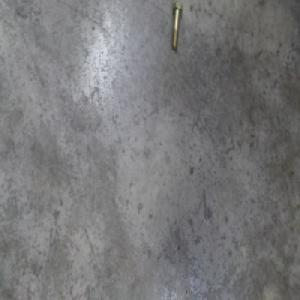Bolt: (169, 7, 183, 54)
